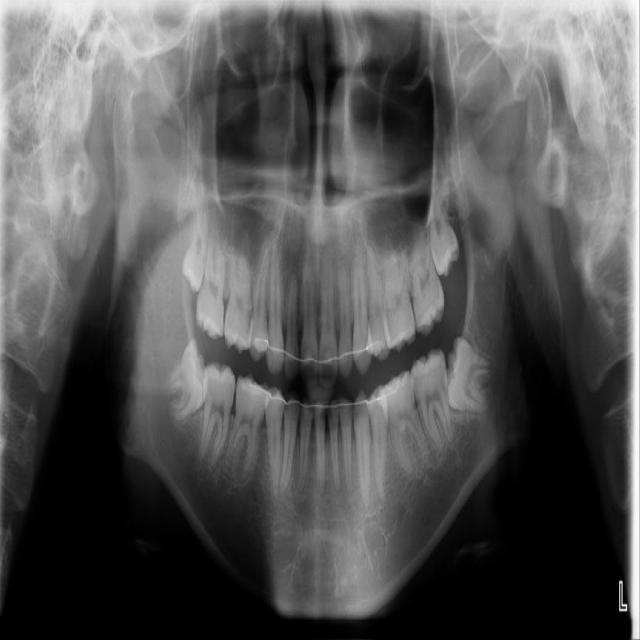3M ESPE Implant: (178, 203, 215, 295)
73: (602, 590, 606, 600)
BioHorizons Implant: (402, 214, 448, 338)
BioLife Implant: (424, 209, 465, 279)
Biomet 3i Implant: (442, 335, 493, 415)
Blue Sky Bio Implant: (407, 346, 456, 452)
Caries: (195, 234, 227, 341)
Implant: (198, 359, 237, 470)
Keystone Dental Implant: (157, 334, 223, 428)
